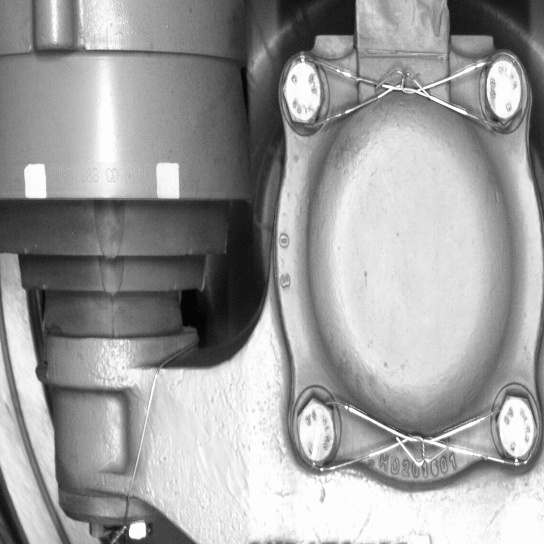IronWire: (277, 51, 528, 132), (288, 388, 541, 468)
Screw: (276, 51, 327, 131), (290, 388, 339, 470), (491, 387, 541, 467), (478, 50, 527, 128)
